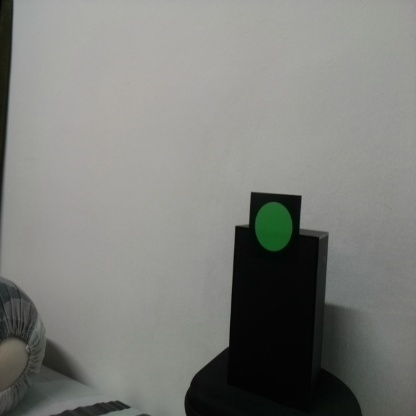id_5: (250, 193, 300, 267)
